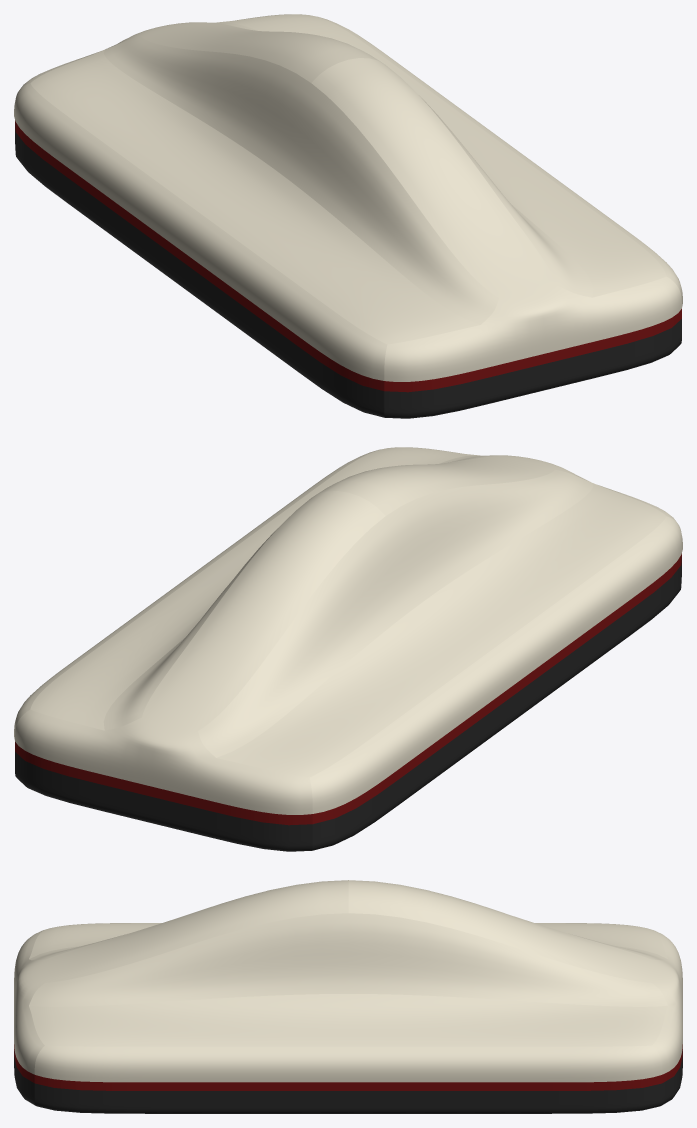
The model's file is gabka_kolor.fbx.
The picture shows the model from 3 angles, top to bottom: view 1: azimuth 30°, elevation 25°; view 2: azimuth 150°, elevation 25°; view 3: azimuth 270°, elevation 25°; orthographic projection. The views are drawn at different scales.
Visible parts, largest first — view 1: Cube; view 2: Cube; view 3: Cube.
Part boxes in pixels (bbox=[...]): Cube: bbox=[14, 14, 682, 418]; Cube: bbox=[14, 447, 682, 851]; Cube: bbox=[14, 880, 682, 1113].
Size of the model in its own units: 19.15 by 10.61 by 38.96.
